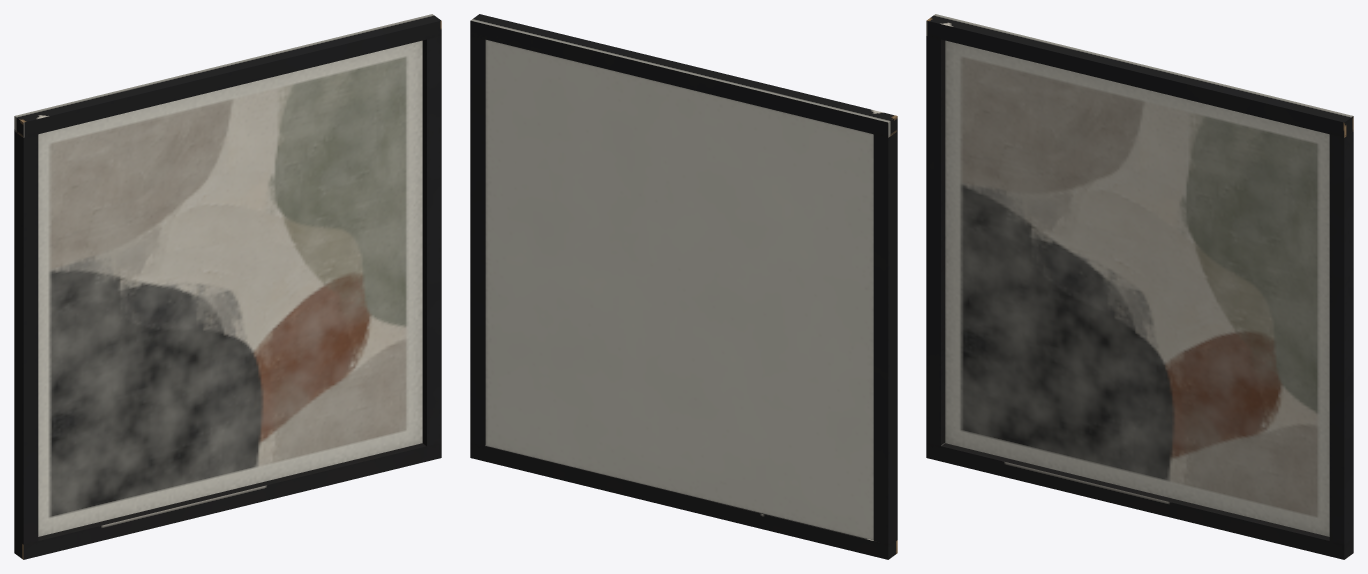
The model's file is H_Frame_Abstract.fbx.
The picture shows the model from 3 angles, left to right: view 1: azimuth 30°, elevation 25°; view 2: azimuth 150°, elevation 25°; view 3: azimuth 330°, elevation 25°; orthographic projection.
Visible parts, largest first — view 1: H_Frame_Abstract; view 2: H_Frame_Abstract; view 3: H_Frame_Abstract.
Part boxes in pixels (x1,y1,x2,y2): H_Frame_Abstract: [14, 14, 441, 559]; H_Frame_Abstract: [470, 14, 897, 559]; H_Frame_Abstract: [926, 14, 1353, 559].
Size of the model in its own units: 400 by 400 by 15.
1 material, 1 textured.
